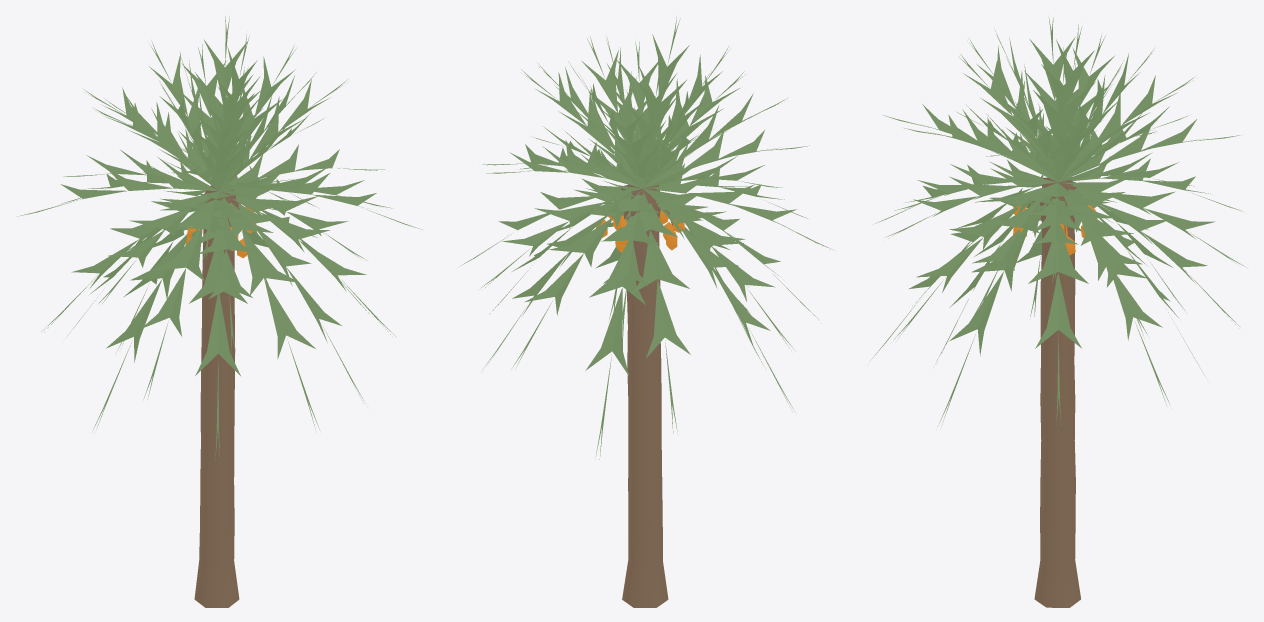
File: Blender_DatePalm_2_Far.glb
The picture shows the model from 3 angles, left to right: view 1: azimuth 30°, elevation 25°; view 2: azimuth 150°, elevation 25°; view 3: azimuth 270°, elevation 25°; orthographic projection. The views are drawn at different scales.
Visible parts, largest first — view 1: Blender_DatePalm_2_Far; view 2: Blender_DatePalm_2_Far; view 3: Blender_DatePalm_2_Far.
Boxes of the visible parts, bbox=[...] form: Blender_DatePalm_2_Far: bbox=[17, 16, 422, 607]; Blender_DatePalm_2_Far: bbox=[461, 17, 832, 607]; Blender_DatePalm_2_Far: bbox=[870, 17, 1246, 607].
Bounding box in the file's own units: 7.72 × 12.35 × 7.51.
